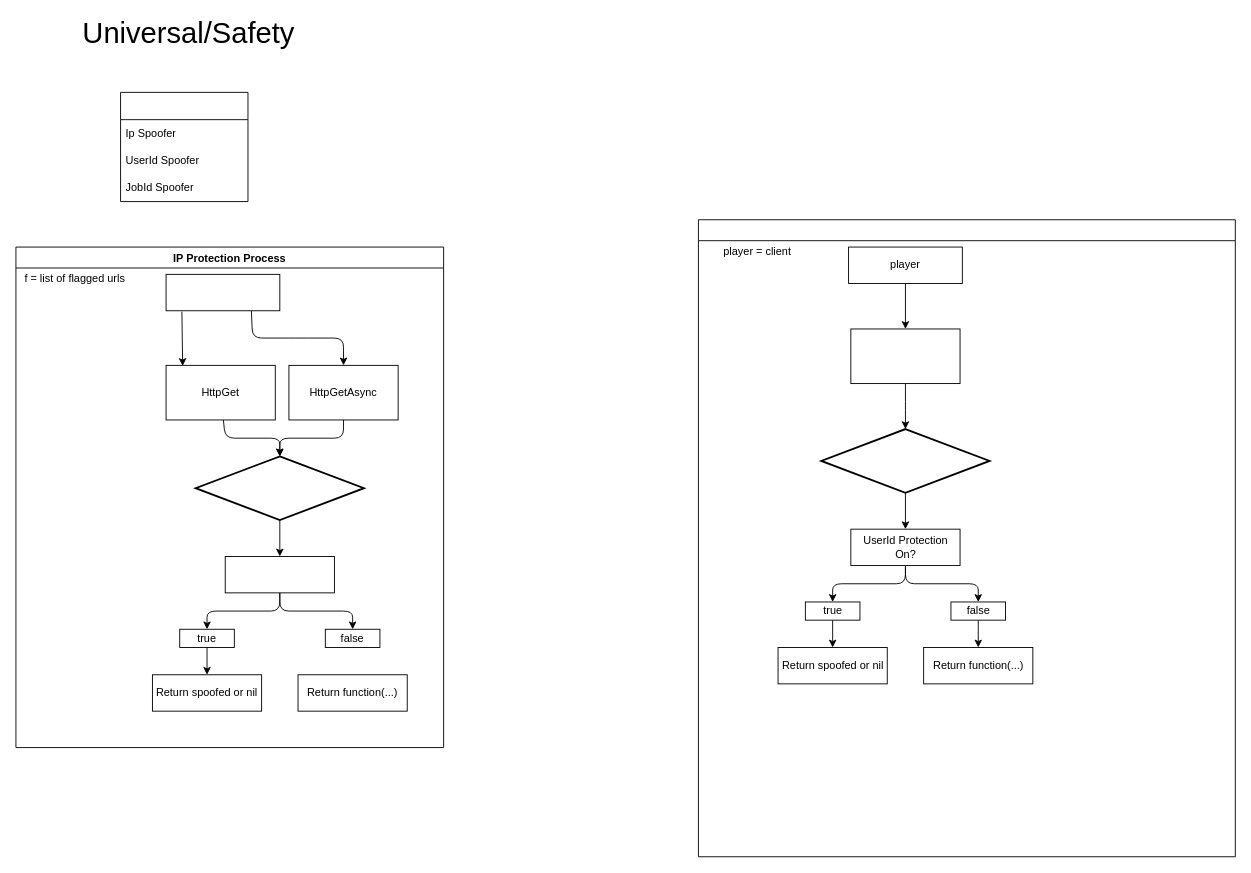
Image size: 1251x873. Some labels were removed from this diagram. Each missing label, with the centre of its shape:
__index: point 905,356
game.__namecall: point 222,292
IP Protection enabled?: point 279,488
Key = UserId?: point 905,460
URL = args[1] f(URL): point 279,574
